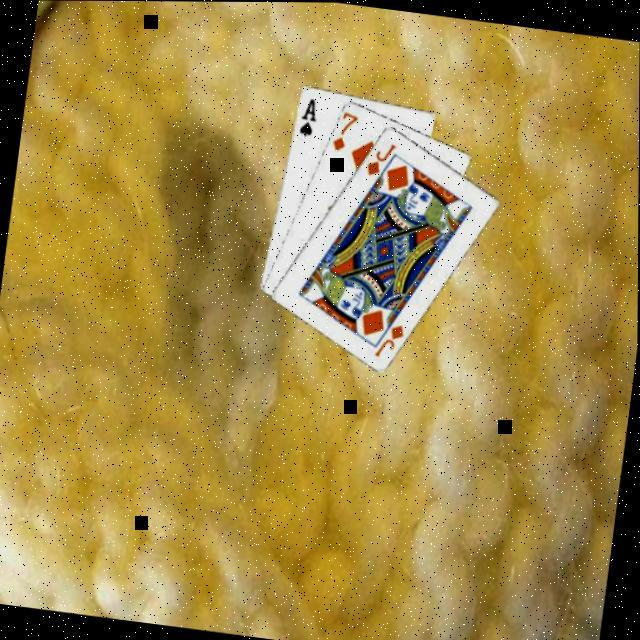7D: (326, 109, 359, 156)
AS: (294, 94, 319, 140)
JD: (369, 318, 406, 364), (359, 138, 396, 182)
